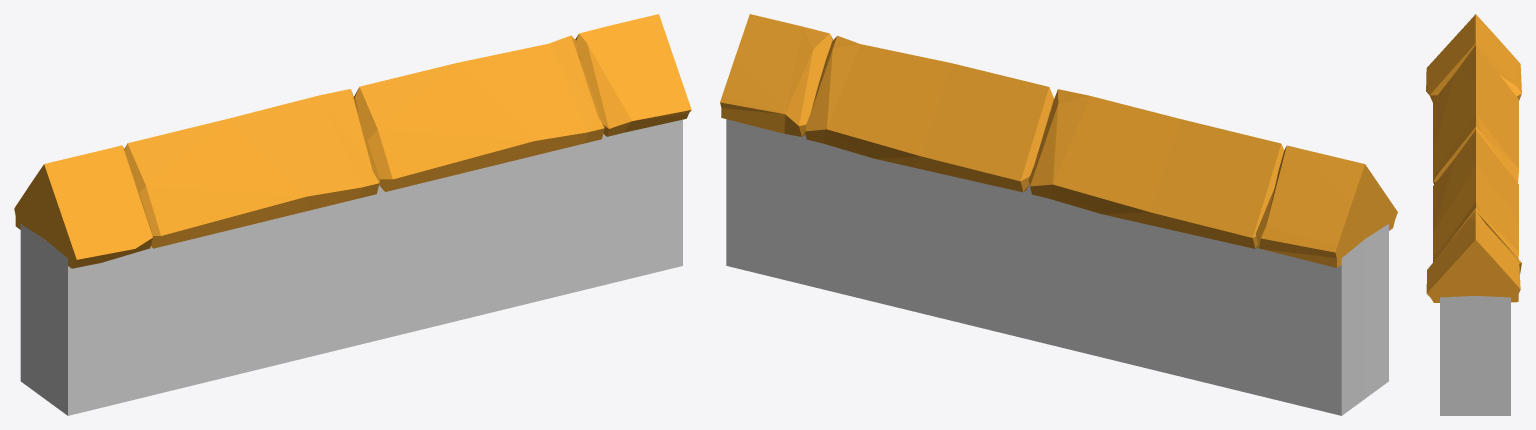
Rendered from SM_Crenelations_Backwall_A_Fantasy.fbx.
The picture shows the model from 3 angles, left to right: view 1: azimuth 30°, elevation 25°; view 2: azimuth 150°, elevation 25°; view 3: azimuth 270°, elevation 25°; orthographic projection. The views are drawn at different scales.
Visible parts, largest first — view 1: SM_Crenelations_Backwall_A_Fantasy; view 2: SM_Crenelations_Backwall_A_Fantasy; view 3: SM_Crenelations_Backwall_A_Fantasy.
Part boxes in pixels (<box>): SM_Crenelations_Backwall_A_Fantasy: <box>14,14,691,415</box>; SM_Crenelations_Backwall_A_Fantasy: <box>720,14,1397,415</box>; SM_Crenelations_Backwall_A_Fantasy: <box>1426,14,1521,415</box>.
Size of the model in its own units: 3 by 1.1 by 0.5393.
